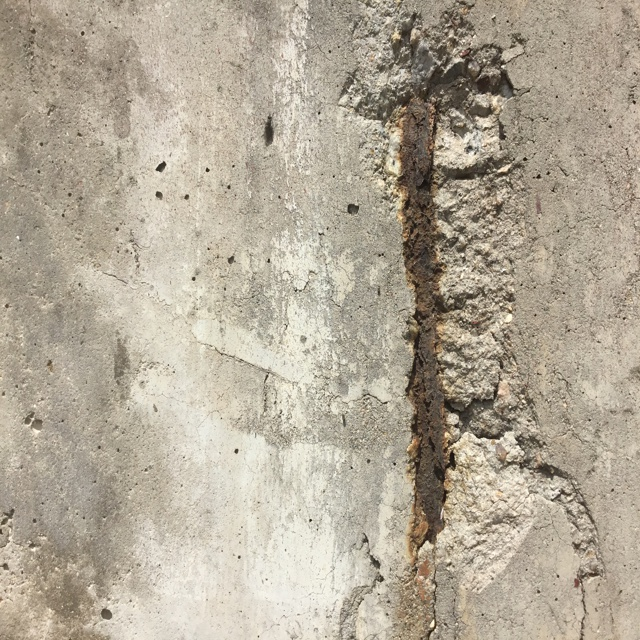rebar: (397, 94, 444, 532)
